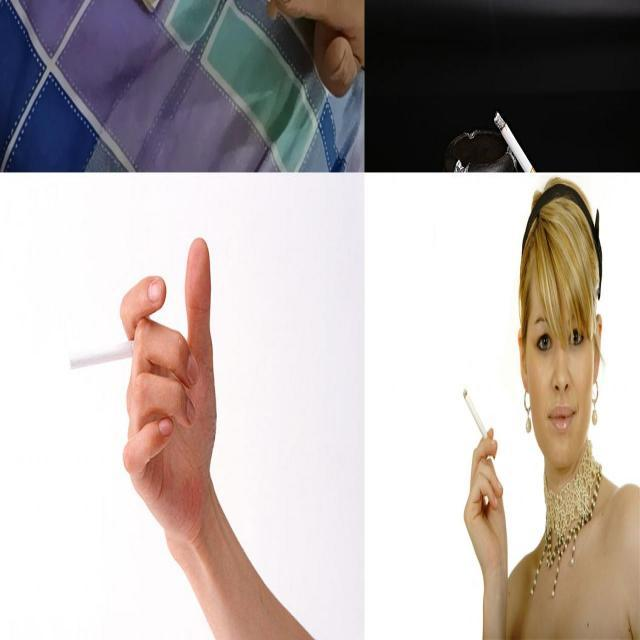cigarette: (68, 321, 154, 374), (492, 106, 556, 172), (464, 388, 496, 461)
